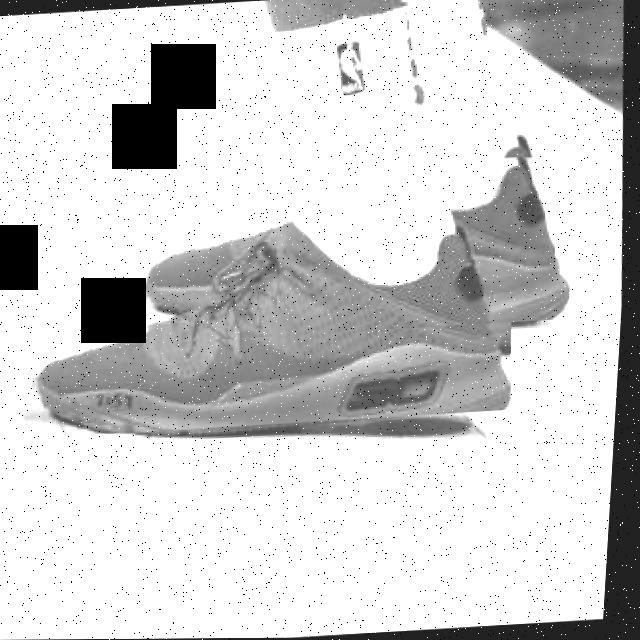shoe: (24, 195, 526, 439), (139, 136, 582, 344)
